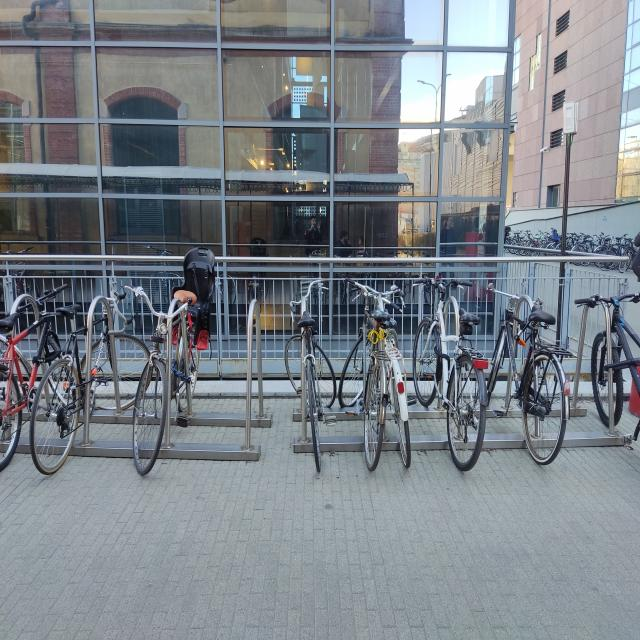Bicycle: (127, 249, 230, 472), (39, 285, 130, 493), (490, 264, 570, 471), (425, 268, 485, 495), (0, 277, 67, 440), (589, 259, 640, 472), (278, 285, 334, 471), (348, 246, 384, 479), (378, 242, 414, 466)
